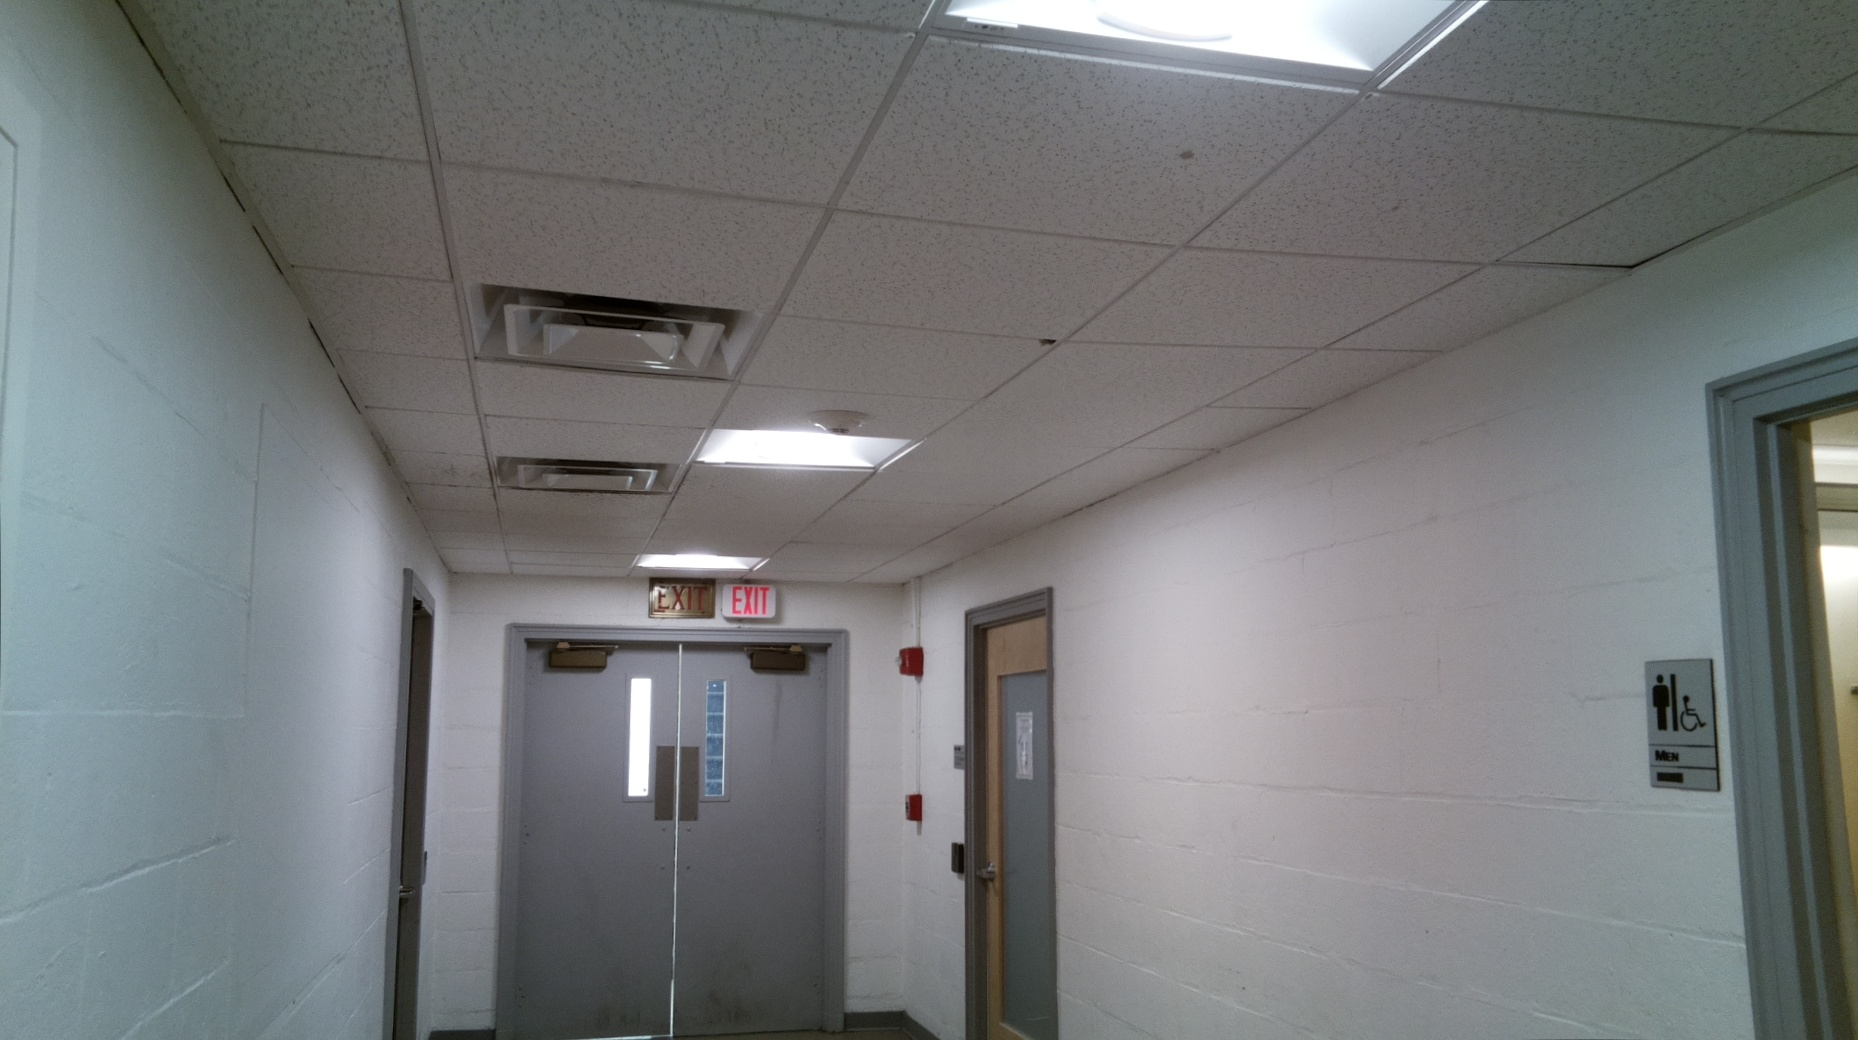bathroom sign: (1641, 656, 1725, 796)
exit sign: (646, 576, 718, 621), (718, 581, 778, 621)
